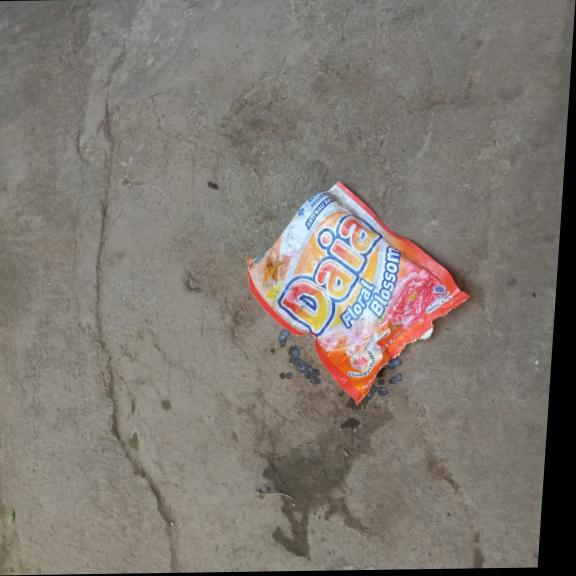Plastik: (236, 176, 479, 406)
